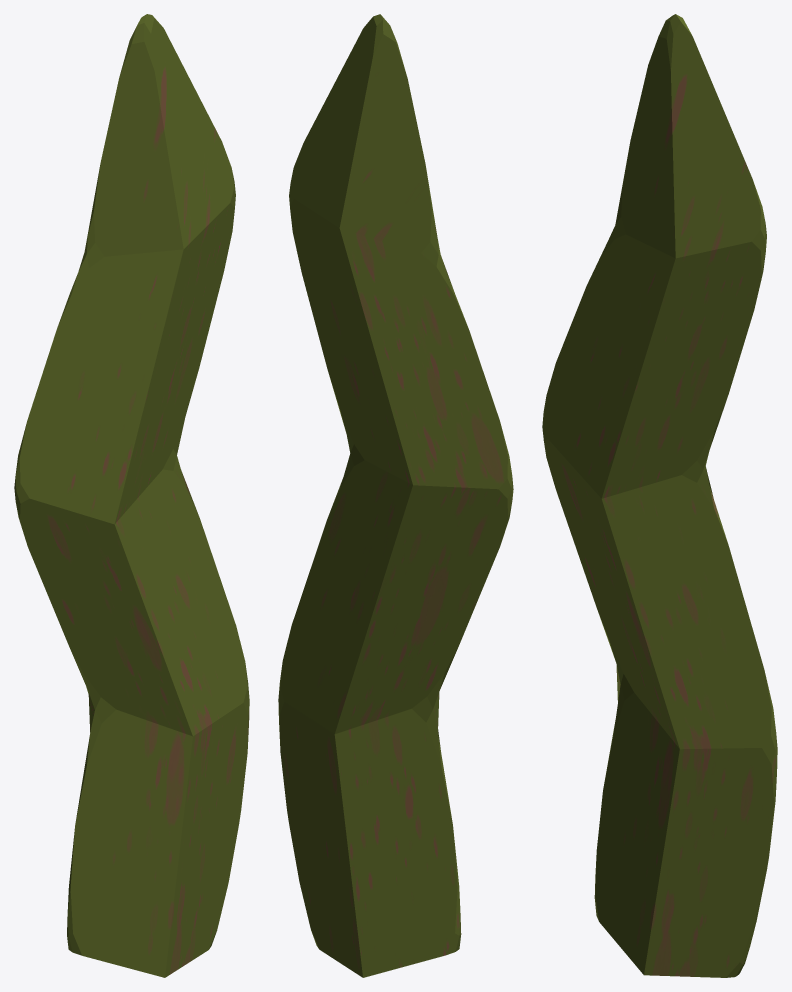
File: kelp (1).fbx
The picture shows the model from 3 angles, left to right: view 1: azimuth 30°, elevation 25°; view 2: azimuth 150°, elevation 25°; view 3: azimuth 330°, elevation 25°; orthographic projection.
Parts seen in each view (by area): view 1: Cube; view 2: Cube; view 3: Cube.
Boxes of the visible parts, left/top/right/bottom form: Cube: left=14, top=14, right=249, bottom=977; Cube: left=278, top=14, right=513, bottom=977; Cube: left=542, top=14, right=777, bottom=977.
Bounding box in the file's own units: 144 × 556 × 52.22.
1 material, 1 textured.
